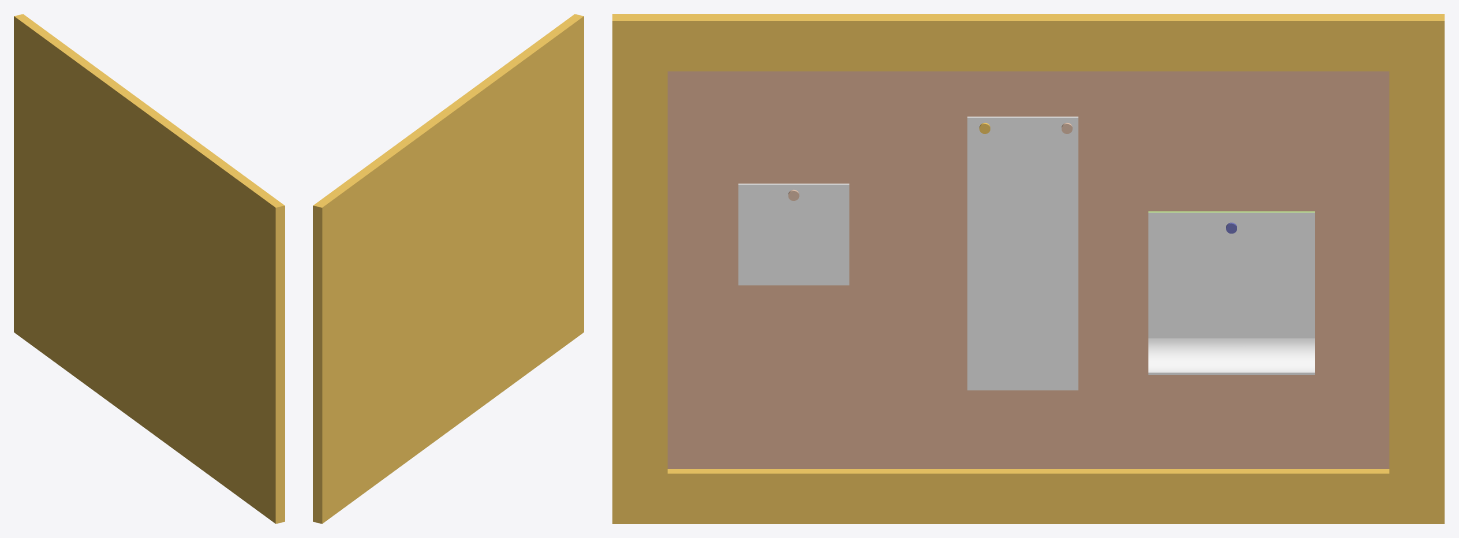
Rendered from board.glb.
3 views of the same model, side by side, from view 1: azimuth 30°, elevation 25°; view 2: azimuth 150°, elevation 25°; view 3: azimuth 270°, elevation 25° (orthographic). The views are drawn at different scales.
Visible parts, largest first — view 1: pizarra; view 2: pizarra; view 3: pizarra.
Boxes of the visible parts, box(x1,y1,x2,y2) form: pizarra: box(14, 14, 284, 523); pizarra: box(313, 14, 583, 523); pizarra: box(612, 14, 1444, 523).
Bounding box in the file's own units: 6.5 × 100 × 150.
